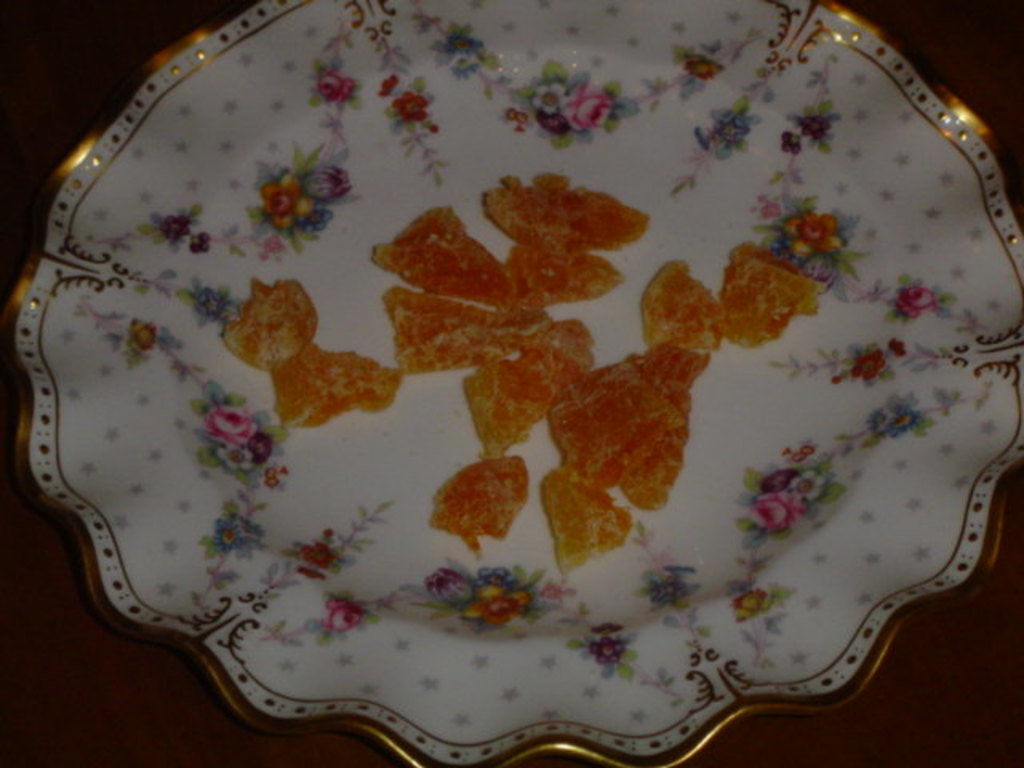plate: (1, 0, 1023, 767)
